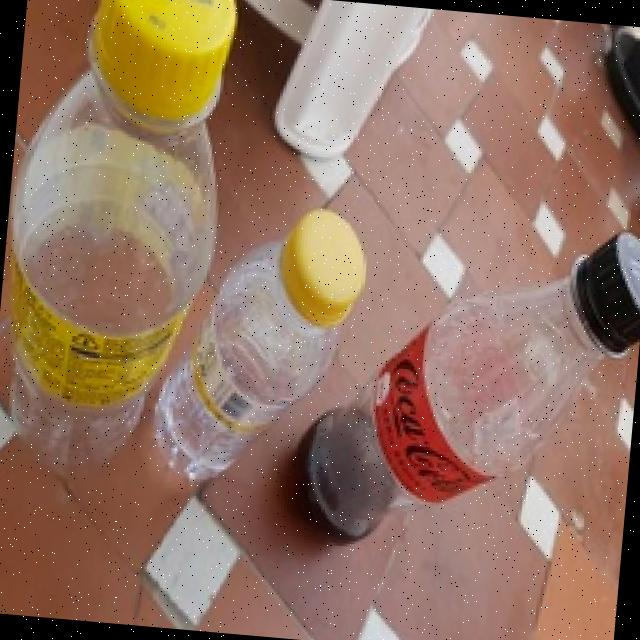bottle: (291, 167, 640, 586), (0, 0, 231, 497), (142, 195, 378, 521)
cap: (88, 0, 234, 135), (276, 205, 370, 330), (563, 231, 640, 356)
label: (359, 330, 501, 520), (0, 278, 182, 402), (177, 341, 289, 438)
